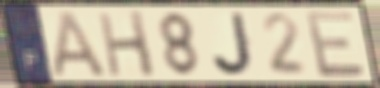2: (260, 11, 311, 79)
8: (156, 10, 203, 79)
A: (50, 9, 111, 80)
E: (302, 9, 368, 80)
H: (95, 9, 159, 79)
J: (209, 10, 259, 79)
